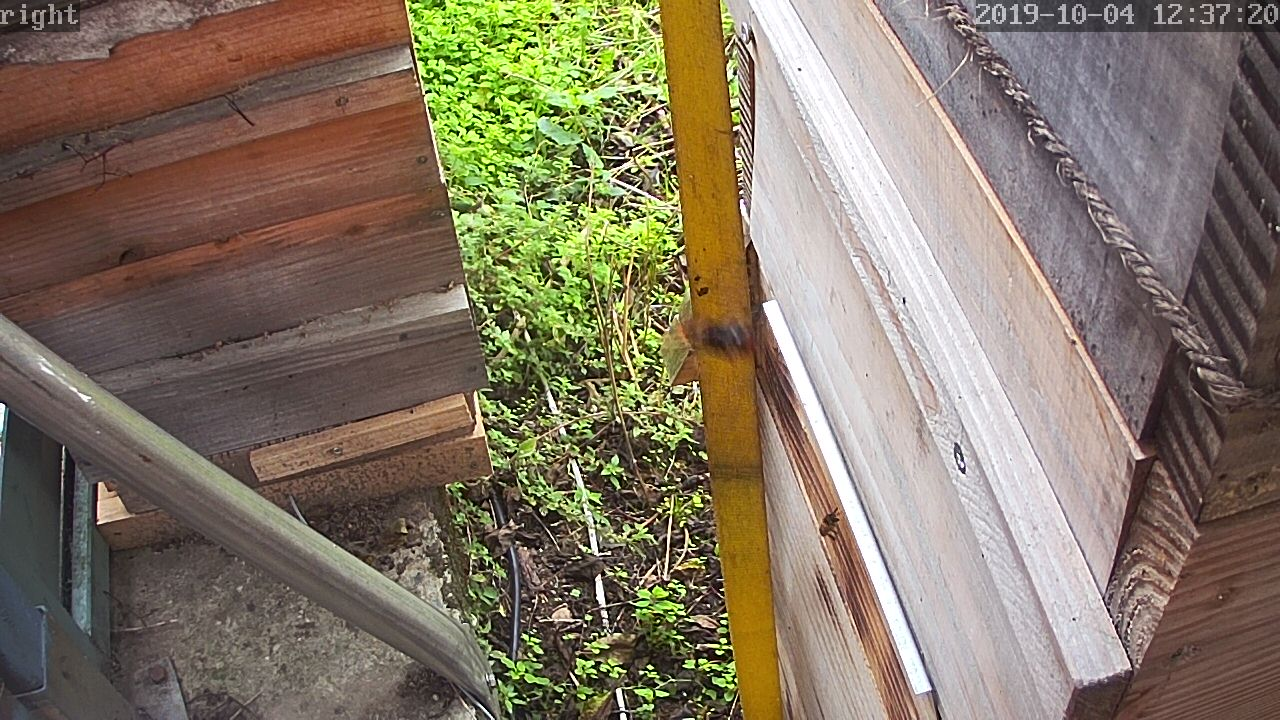bee: (812, 503, 844, 537)
hornet: (669, 308, 755, 362)
